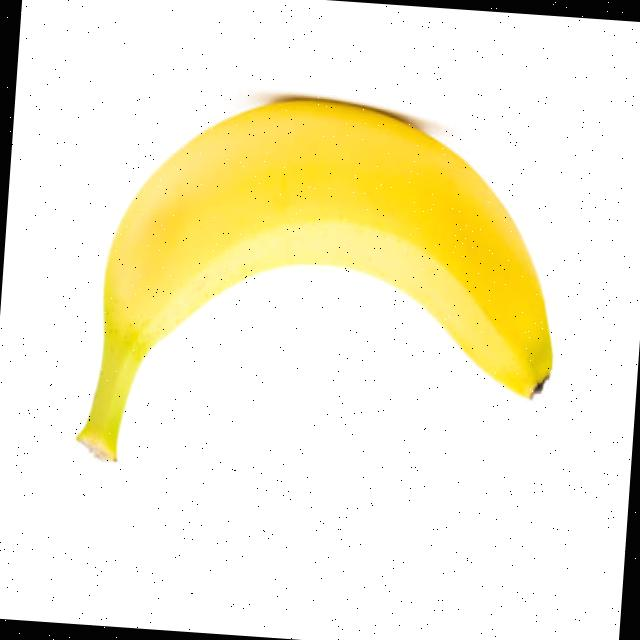Ripe: (73, 77, 572, 504)
